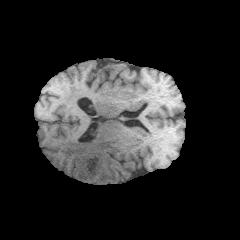glioma: (63, 137, 129, 182)
